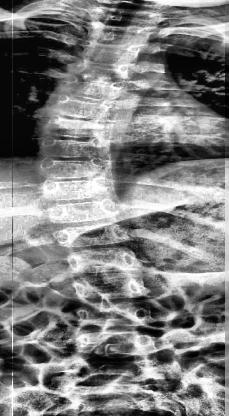Vertebrae: (79, 330, 157, 360), (54, 221, 130, 250), (77, 274, 149, 304), (76, 303, 154, 330), (72, 248, 140, 276), (48, 115, 110, 144), (60, 76, 121, 104), (41, 134, 105, 160), (50, 96, 114, 122), (43, 180, 112, 204), (38, 158, 106, 182), (51, 200, 117, 224), (82, 40, 136, 66), (74, 58, 132, 82), (90, 22, 142, 48)
